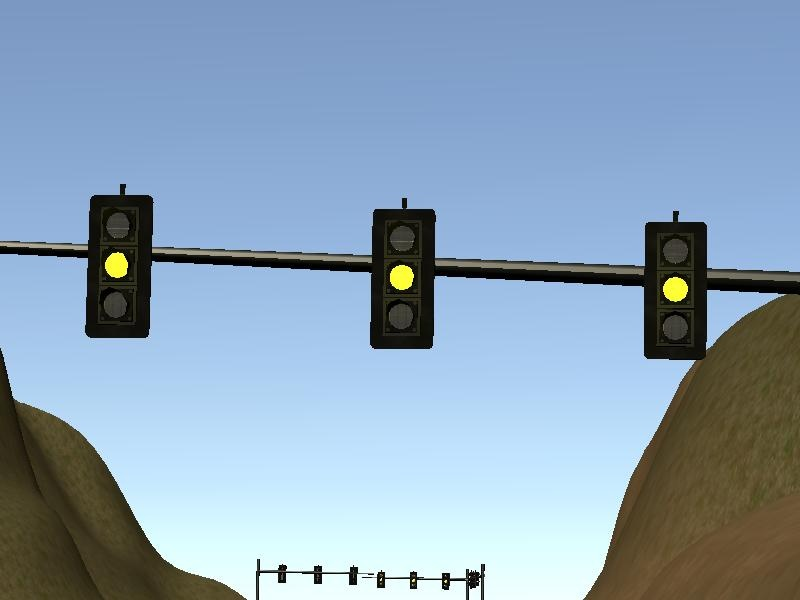yellow: (78, 177, 161, 346), (361, 193, 439, 356), (638, 208, 714, 367)
